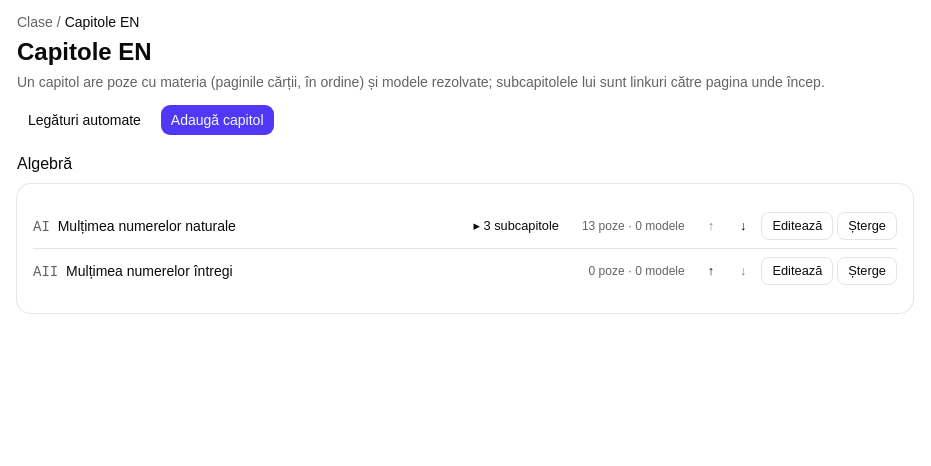
AdminEnChaptersPage › with sections › lists the chapters closed and opens one into its sections and points, with their page of the book
The image size is (931, 466).
Expected: the element with test id "en-chapter-row-1" is shown, [33,204,897,249]
Click the button with aria-label "Arată subcapitolele lui AI": coordinates (516, 226) [462,212,570,240]
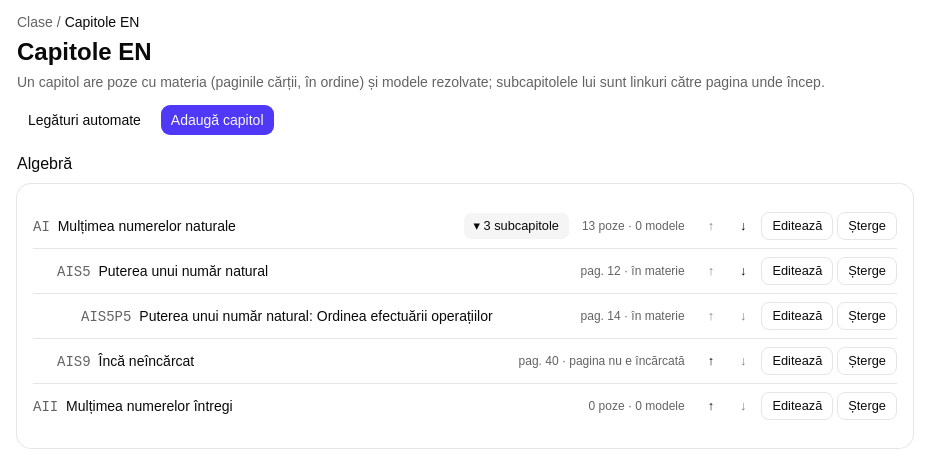
Expected: the text "pag. 12 · în materie" is shown, [581,263,685,279]
Expected: the text "pag. 14 · în materie" is shown, [581,308,685,324]
Expected: the text "pag. 40 · pagina nu e încărcată" is shown, [518,353,685,369]
